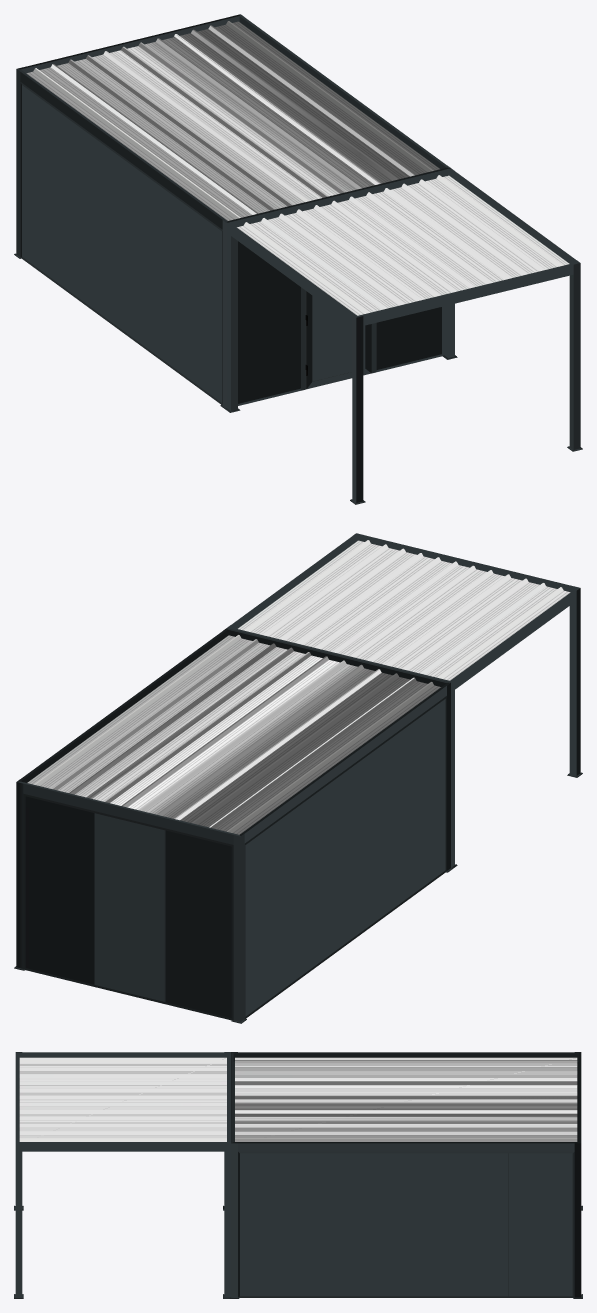
Rendered from 13443_carport3x3abri5x3.fbx.
3 views of the same model, one above another, from view 1: azimuth 30°, elevation 25°; view 2: azimuth 150°, elevation 25°; view 3: azimuth 270°, elevation 25° (orthographic). The views are drawn at different scales.
Visible parts, largest first — view 1: priximbattable_net_abris_de_voiture_13443_module_carport_abr, folha, porta; view 2: priximbattable_net_abris_de_voiture_13443_module_carport_abr; view 3: priximbattable_net_abris_de_voiture_13443_module_carport_abr.
Part boxes in pixels (x1,y1,x2,y2): priximbattable_net_abris_de_voiture_13443_module_carport_abr: [14, 14, 582, 504]; folha: [305, 291, 371, 389]; porta: [301, 287, 376, 390]; priximbattable_net_abris_de_voiture_13443_module_carport_abr: [14, 533, 582, 1023]; priximbattable_net_abris_de_voiture_13443_module_carport_abr: [14, 1052, 582, 1298].
Size of the model in its own units: 324 by 254 by 844.
Materials: 1 (1 with a texture image).
